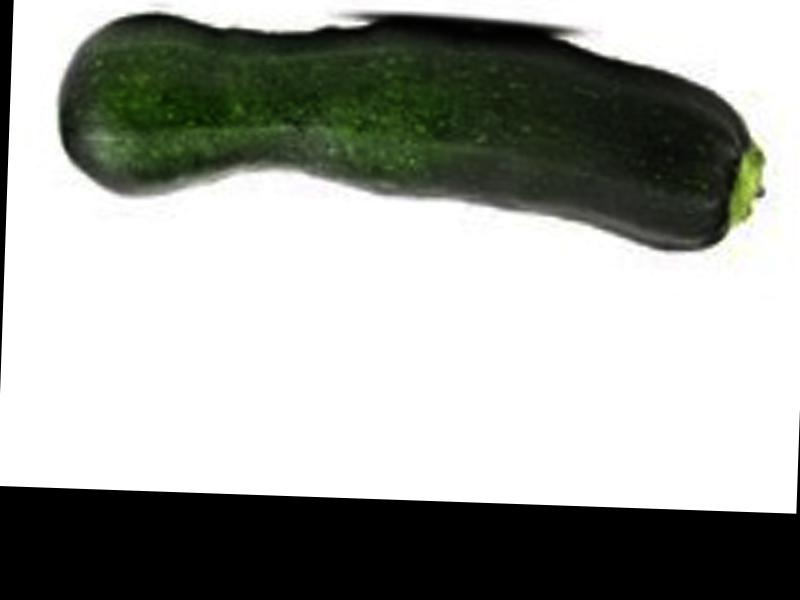Cucumber: (55, 9, 771, 255)
